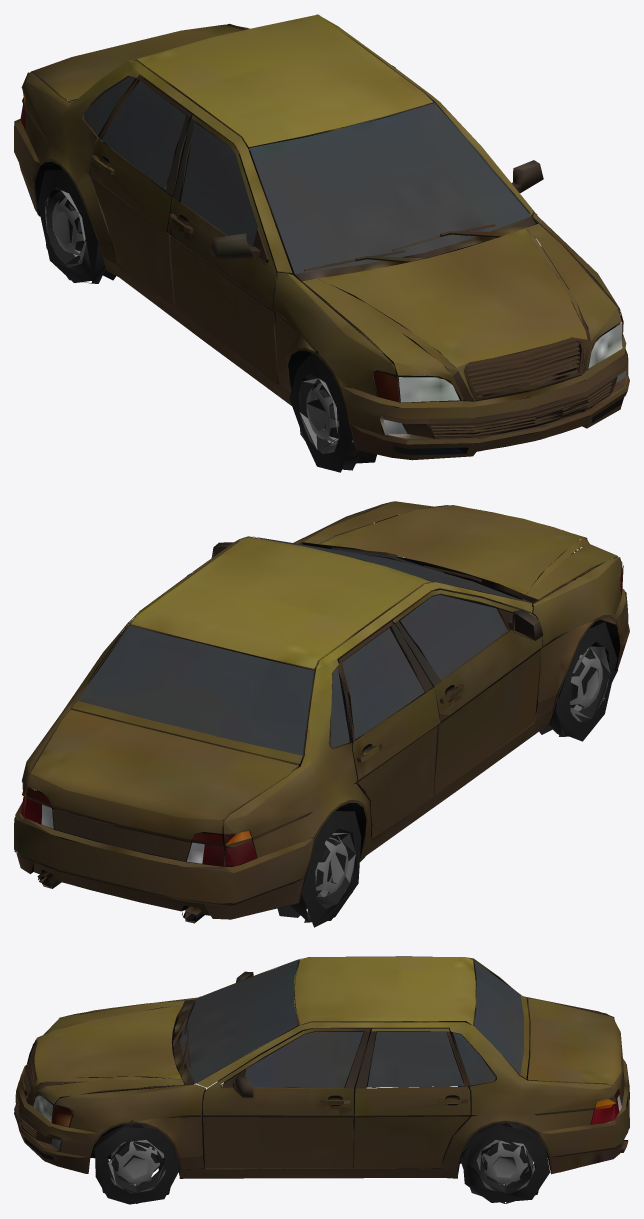
Rendered from pack-sedan-L3.glb.
3 renders of one model, top to bottom at view 1: azimuth 30°, elevation 25°; view 2: azimuth 150°, elevation 25°; view 3: azimuth 270°, elevation 25°, orthographic. The views are drawn at different scales.
Visible parts, largest first — view 1: body, wheel-front-left, wheel-back-left, wheel-front-left.1, wheel-back-left.1; view 2: body, wheel-back-left, wheel-front-left, wheel-front-left.1, wheel-back-left.1; view 3: body, wheel-back-right, wheel-front-right, wheel-back-right.1, wheel-front-right.1.
Boxes of the visible parts, x1,y1,x2,y2 form: body: [14, 14, 629, 460]; wheel-front-left: [289, 353, 376, 472]; wheel-back-left: [38, 170, 115, 283]; wheel-front-left.1: [299, 378, 353, 453]; wheel-back-left.1: [45, 190, 86, 265]; body: [14, 501, 629, 923]; wheel-back-left: [277, 811, 361, 927]; wheel-front-left: [537, 622, 617, 741]; wheel-front-left.1: [570, 646, 610, 721]; wheel-back-left.1: [315, 833, 355, 897]; body: [14, 956, 629, 1178]; wheel-back-right: [460, 1122, 550, 1203]; wheel-front-right: [94, 1123, 179, 1204]; wheel-back-right.1: [476, 1140, 534, 1190]; wheel-front-right.1: [108, 1140, 165, 1192].
Size of the model in its own units: 1.94 by 1.4 by 4.36.
Materials: 3 (1 with a texture image).
